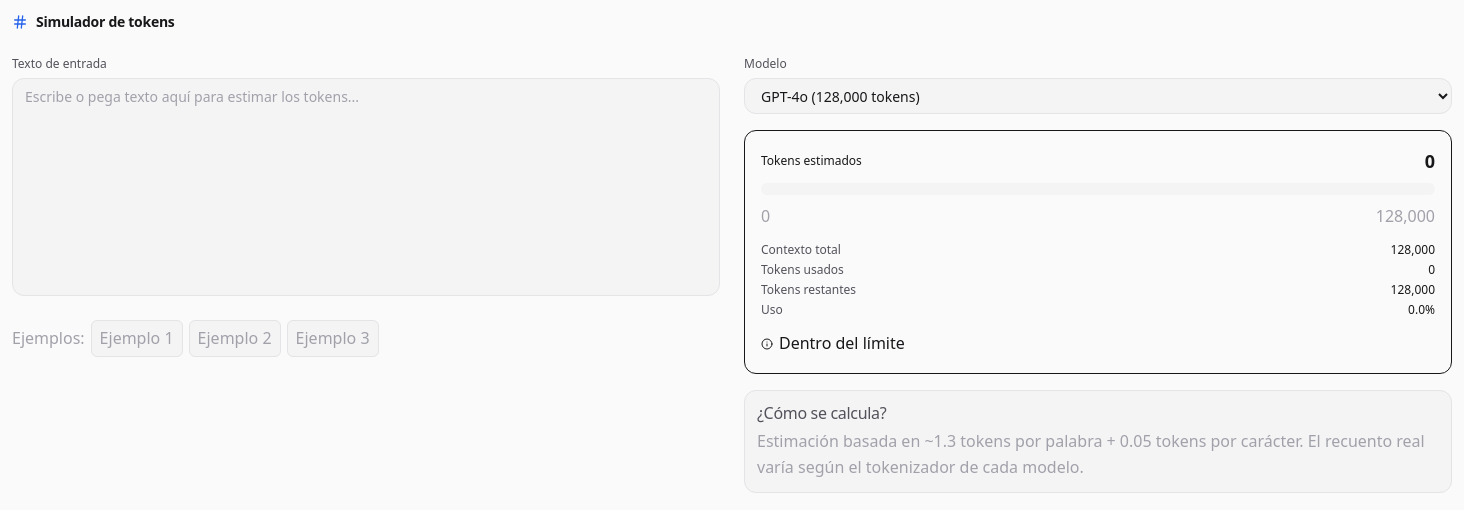
TokenSimulator › estima los tokens al escribir texto
Type "hola mundo" into the text box with placeholder "Escribe o pega texto aquí para estimar los tokens..." at (366, 187), box [12,78,720,296]
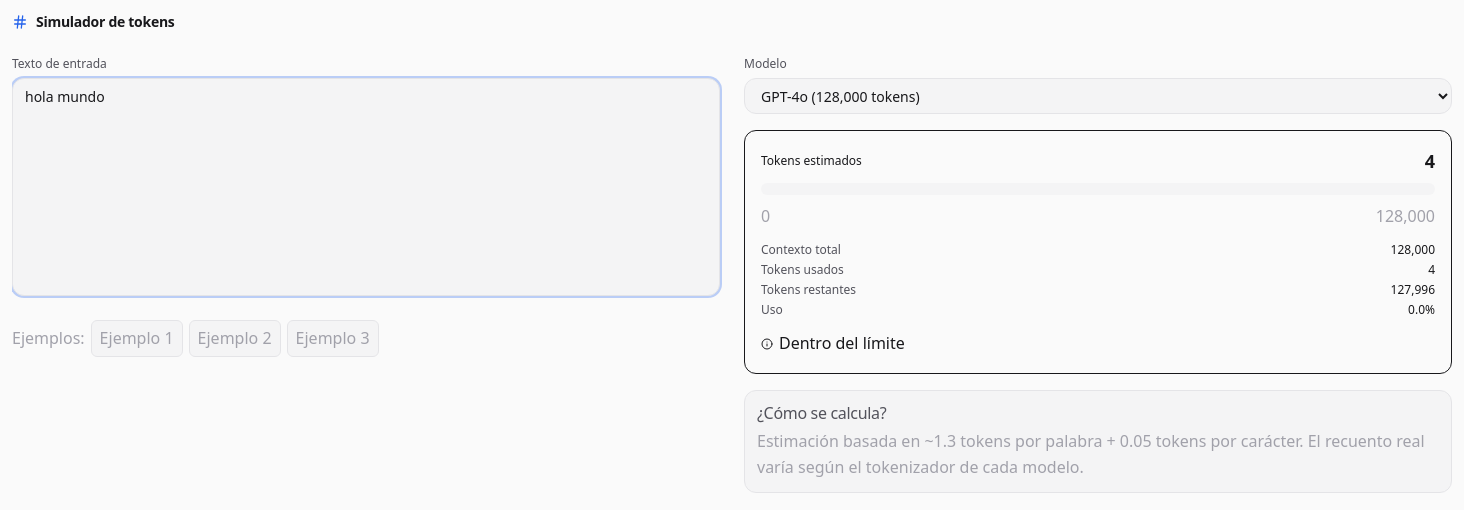
Expected: the text "4" in the row of "Tokens estimados" is shown, [1425,149,1435,173]
